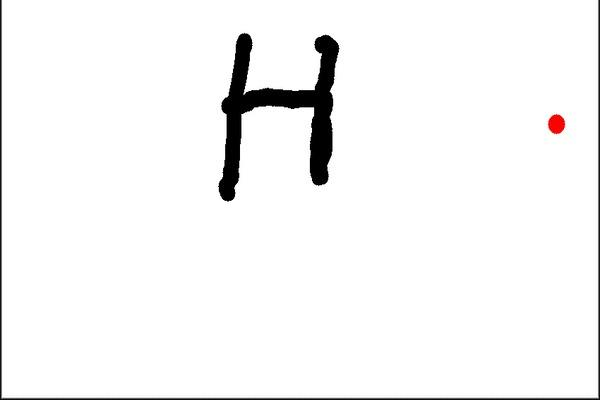H: (204, 23, 353, 207)
